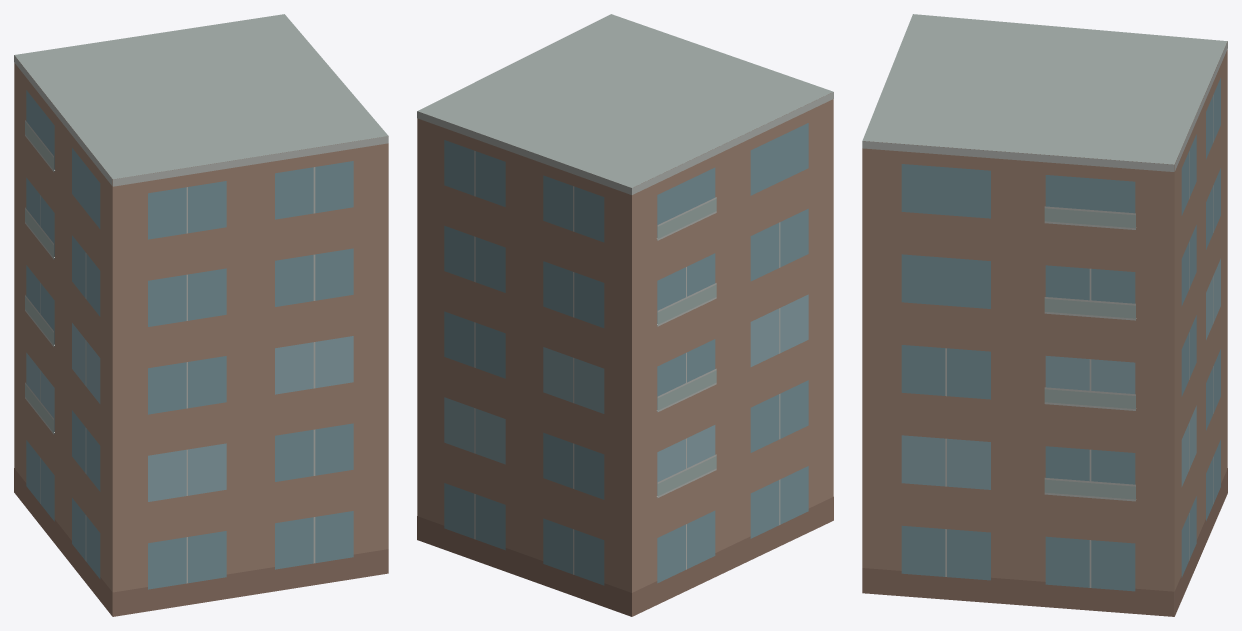
The model's file is survey-upis-32641788.glb.
3 views of the same model, side by side, from view 1: azimuth 30°, elevation 25°; view 2: azimuth 150°, elevation 25°; view 3: azimuth 270°, elevation 25° (orthographic). The views are drawn at different scales.
Parts seen in each view (by area): view 1: survey-upis-32641788.tmp; view 2: survey-upis-32641788.tmp; view 3: survey-upis-32641788.tmp.
Part boxes in pixels (x1,y1,x2,y2): survey-upis-32641788.tmp: (14, 14, 388, 616); survey-upis-32641788.tmp: (417, 14, 833, 616); survey-upis-32641788.tmp: (862, 14, 1227, 616).
Bounding box in the file's own units: 10.43 × 14.6 × 10.7.
